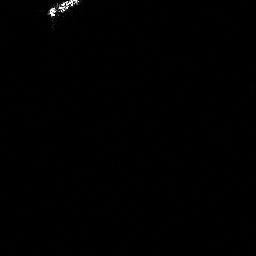ship: (49, 1, 80, 17)
